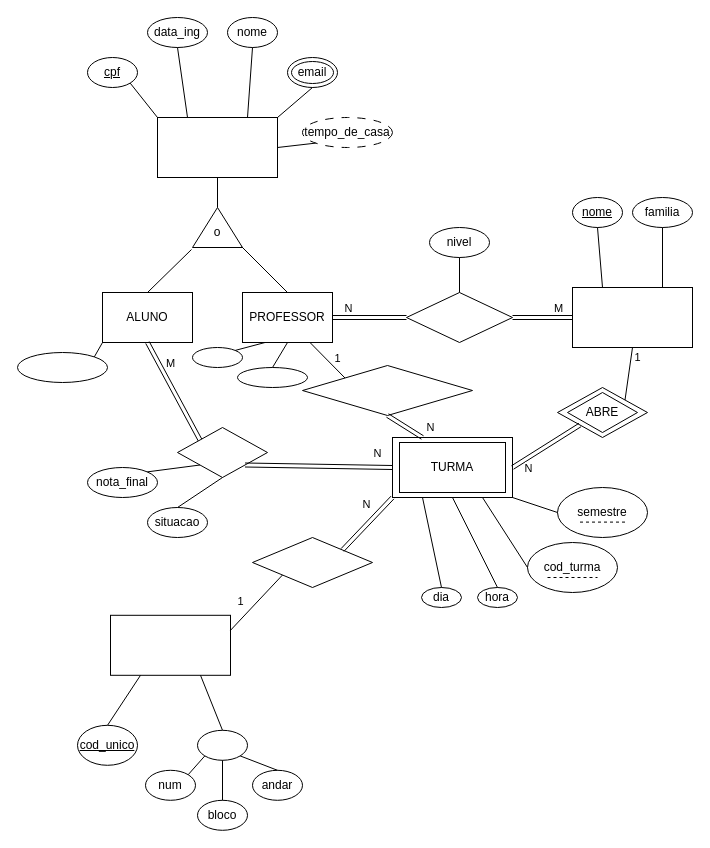
Some shapes in this 710 by 848 pixel diagram are drawn without their labels. Here are the shapes that lost their labels. From the top down, the box of each, then its label:
(156, 116, 278, 178): PESSOA
(406, 292, 512, 342): DOMINA
(572, 286, 692, 348): INSTRUMENTO
(16, 352, 108, 382): num_matricula
(192, 346, 242, 368): valor_hr
(236, 366, 308, 388): rg_docente
(302, 364, 472, 416): RESPONSAVEL_POR
(176, 426, 268, 478): MATRICULA
(252, 536, 372, 588): ACONTECE_EM
(110, 614, 230, 675): SALA
(196, 729, 248, 760): local
